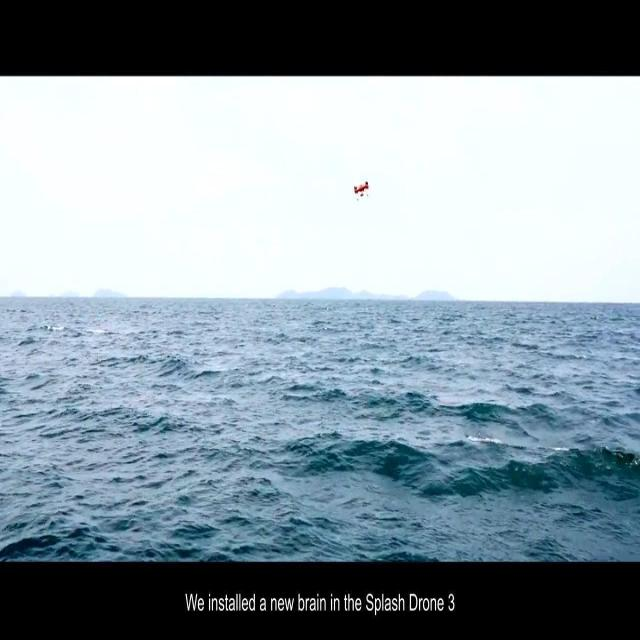drone: (350, 178, 372, 203)
